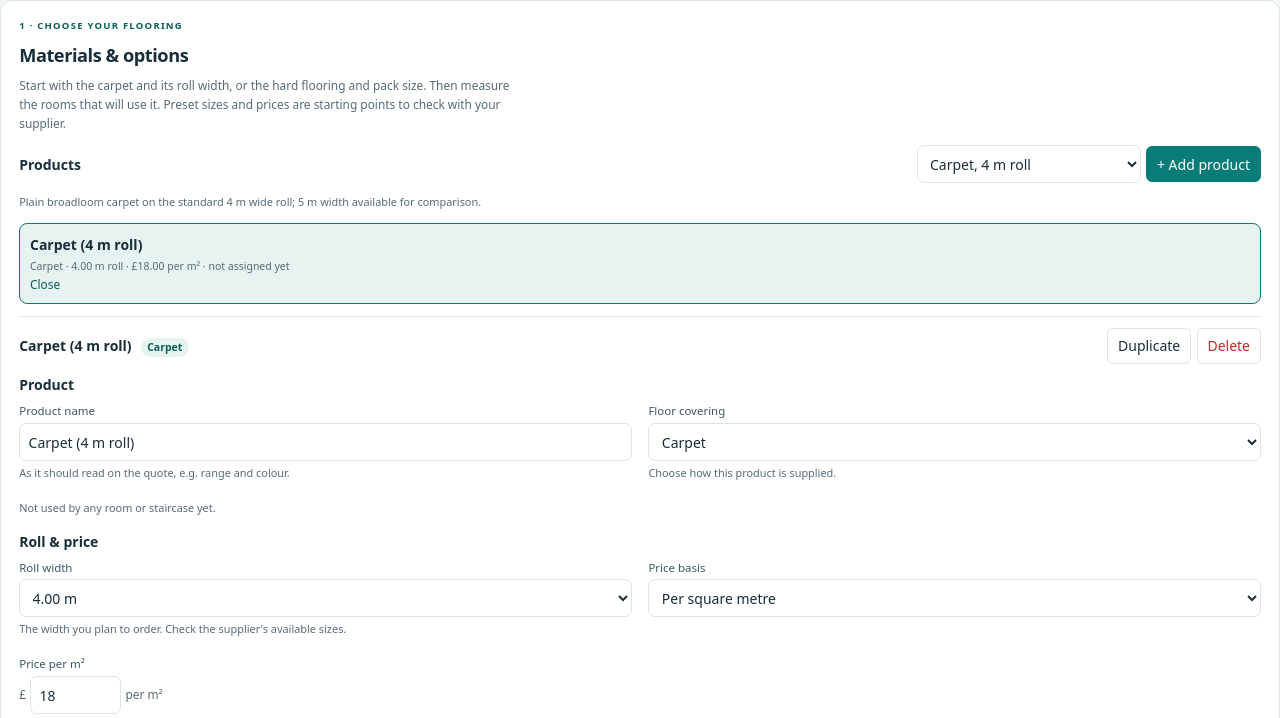
Test: MaterialsPanel › changing the kind converts between roll and pack products
Select "Laminate" in the dropdown named "Product kind" at (955, 442), box [648,423,1261,461]
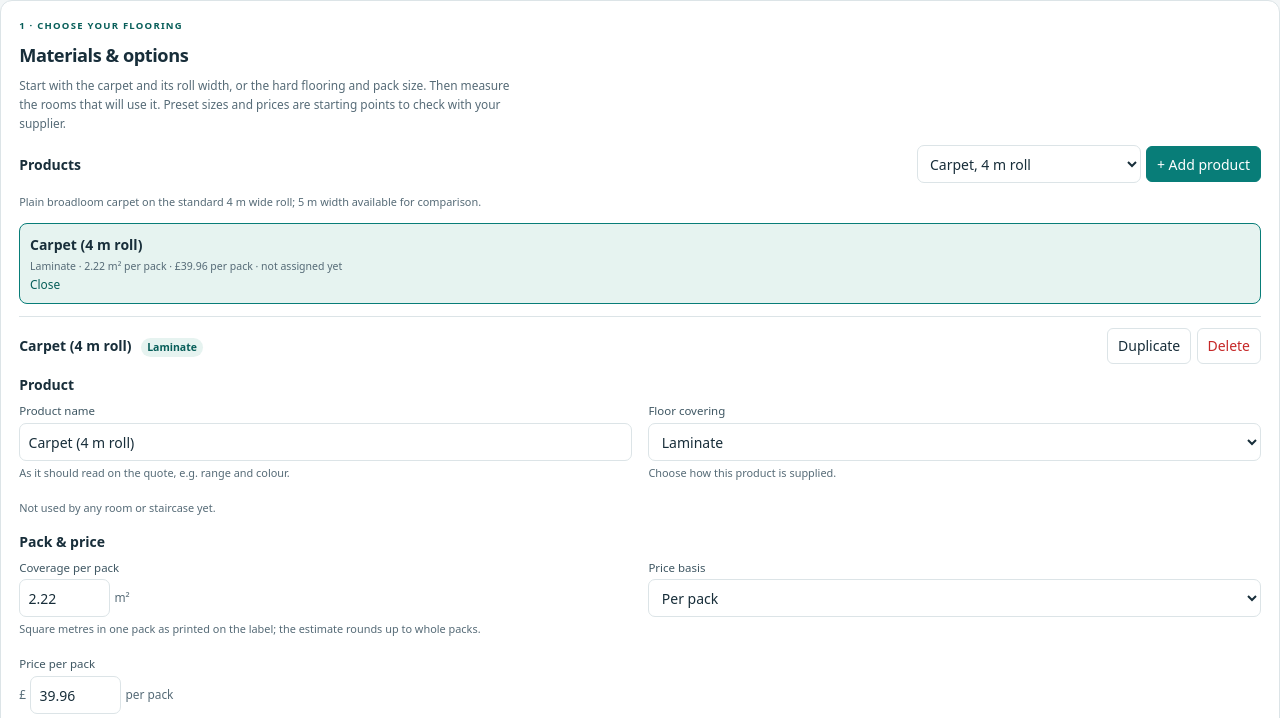
Expected: the number field named "Pack coverage" is shown, [19,579,110,617]
Select "Sheet vinyl" in the dropdown named "Product kind" at (955, 442), box [648,423,1261,461]
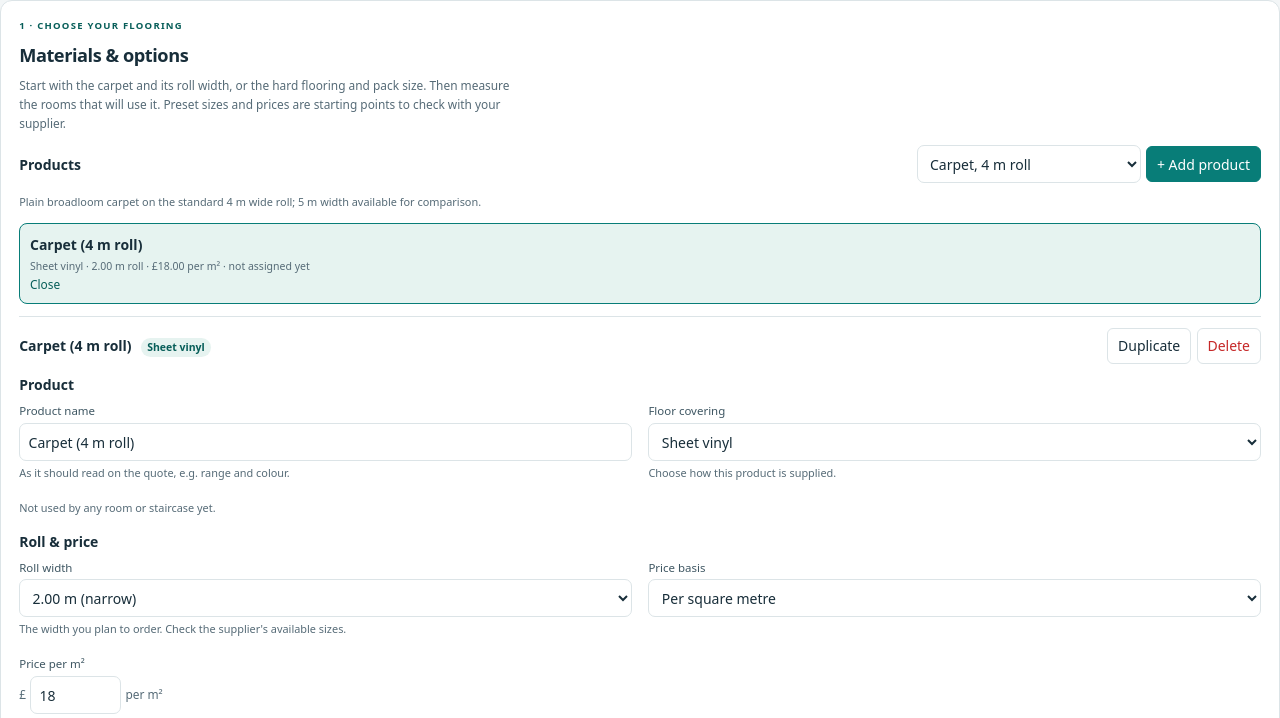
Expected: the dropdown labelled "Roll width" is shown, [19,579,632,617]
